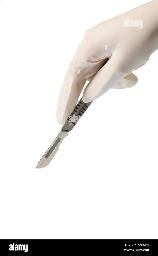scalpel: (36, 96, 95, 168)
